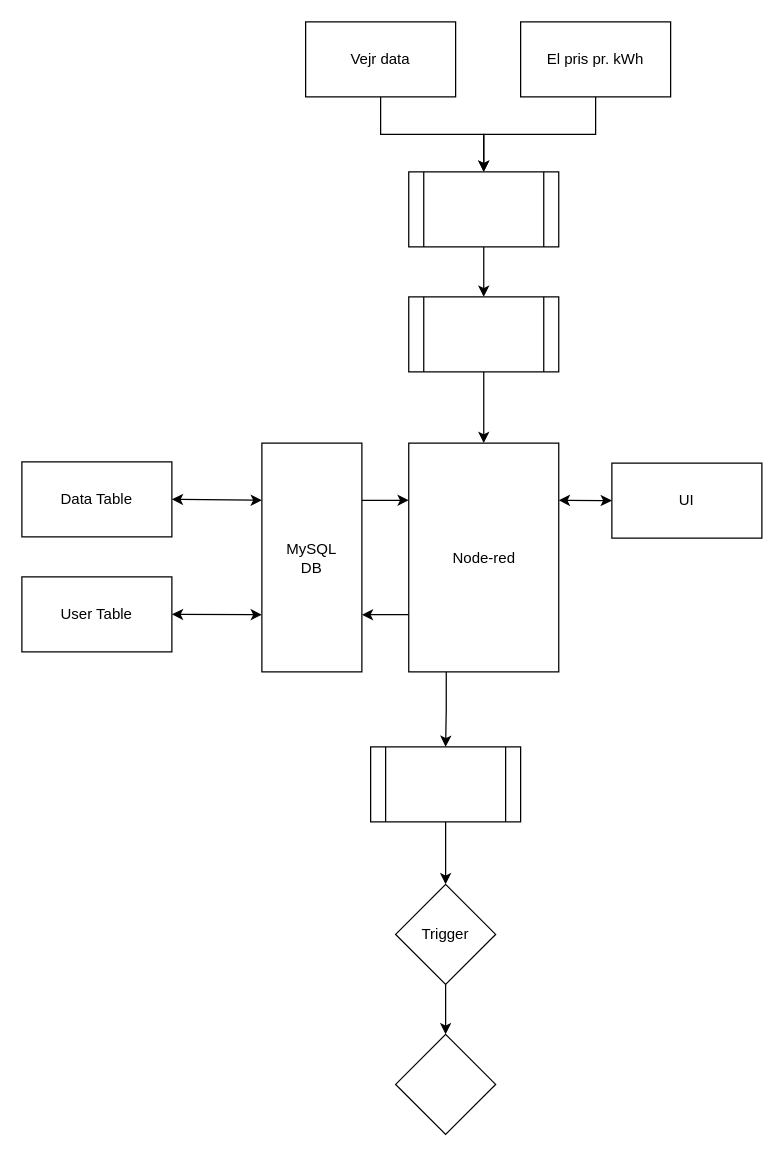
Image size: 784x1156. Some labels were removed from this diagram. Here are the shapes that lost their labels. From the top down, the box of each, then its label:
(408, 171, 559, 247): Api
(408, 296, 559, 372): Python script formats the data
(369, 746, 521, 822): Func
(394, 1033, 496, 1134): On / Off
